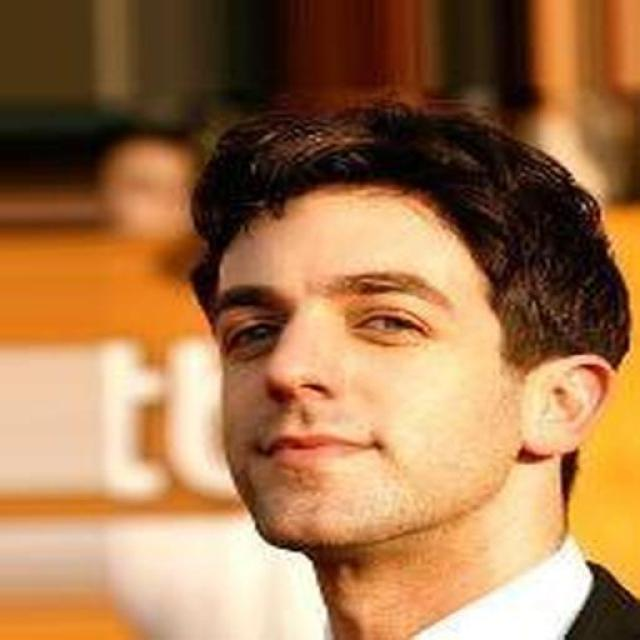bareface: (193, 137, 627, 538)
